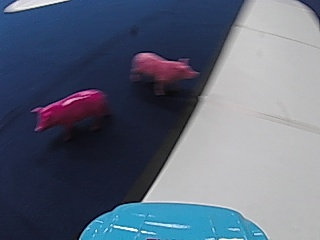pig: (27, 86, 111, 134), (130, 49, 198, 94)
